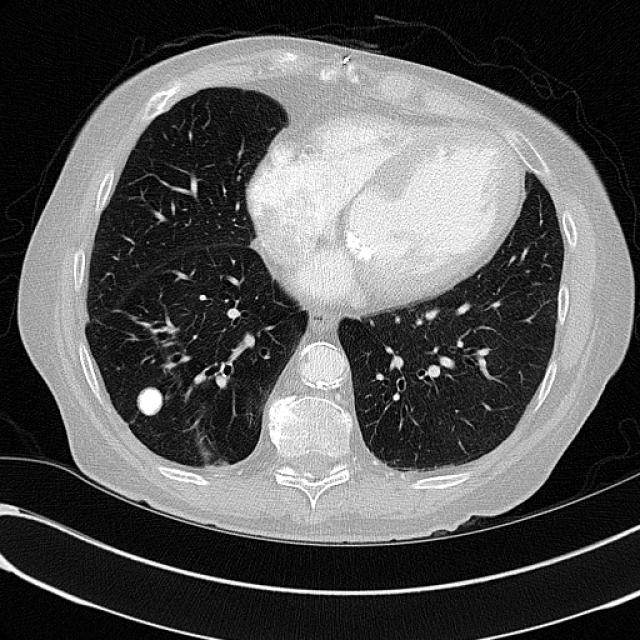nodule: (118, 370, 180, 432)
